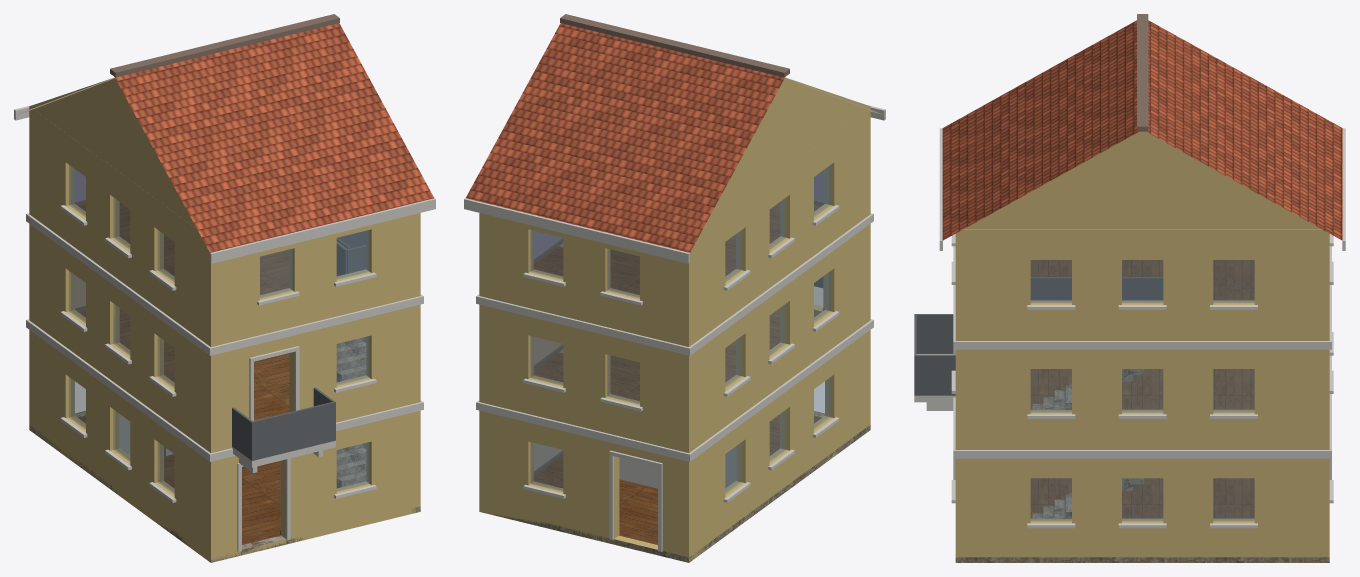
Rendered from cove-house-yellow.coast-v1.lod0.glb.
3 renders of one model, left to right at view 1: azimuth 30°, elevation 25°; view 2: azimuth 150°, elevation 25°; view 3: azimuth 270°, elevation 25°, orthographic. The views are drawn at different scales.
Visible parts, largest first — view 1: cove-house-yellow; view 2: cove-house-yellow; view 3: cove-house-yellow.
Boxes of the visible parts, box(x1,y1,x2,y2) form: cove-house-yellow: box(14, 14, 435, 562); cove-house-yellow: box(464, 14, 885, 562); cove-house-yellow: box(914, 14, 1345, 562).
Bounding box in the file's own units: 6.42 × 11.69 × 10.39.
Materials: 5 (3 with a texture image).
